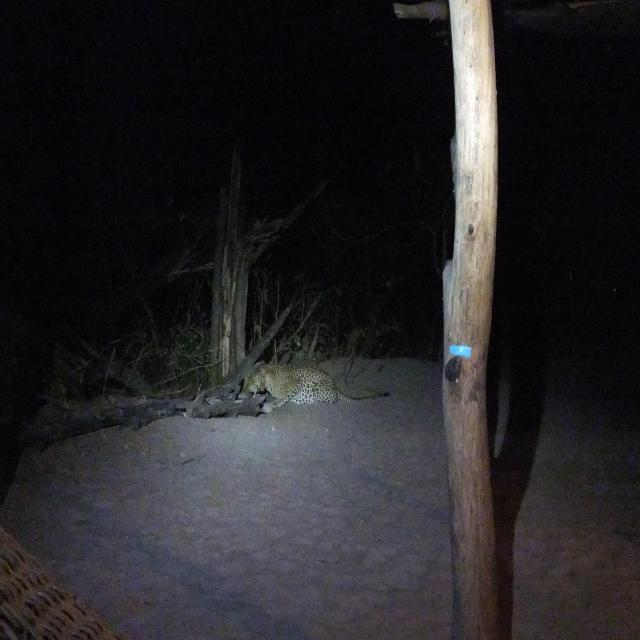Leopard: (248, 369, 386, 420)
